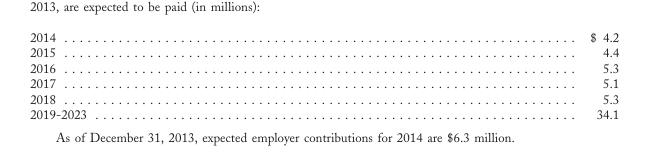table: (29, 28, 618, 121)
table column: (29, 28, 337, 121), (337, 28, 618, 121)
table row: (29, 28, 618, 44), (29, 59, 618, 75), (29, 90, 618, 106), (29, 44, 618, 59), (29, 75, 618, 90), (29, 106, 618, 121)
